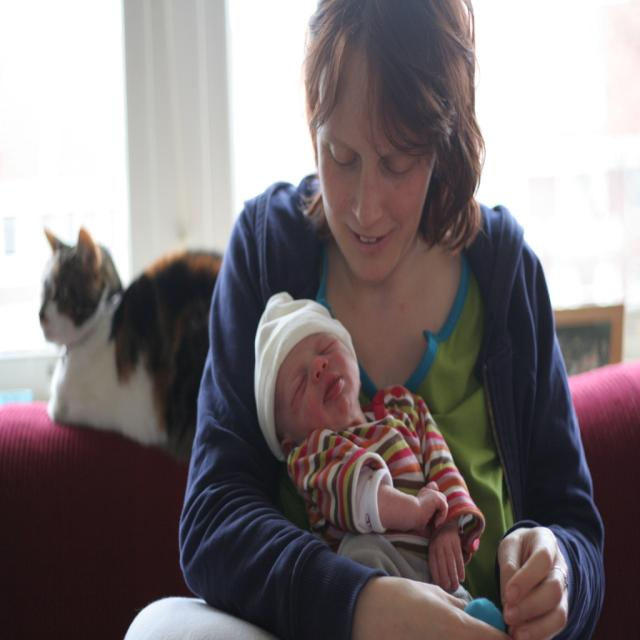Cat: (37, 224, 225, 469)
